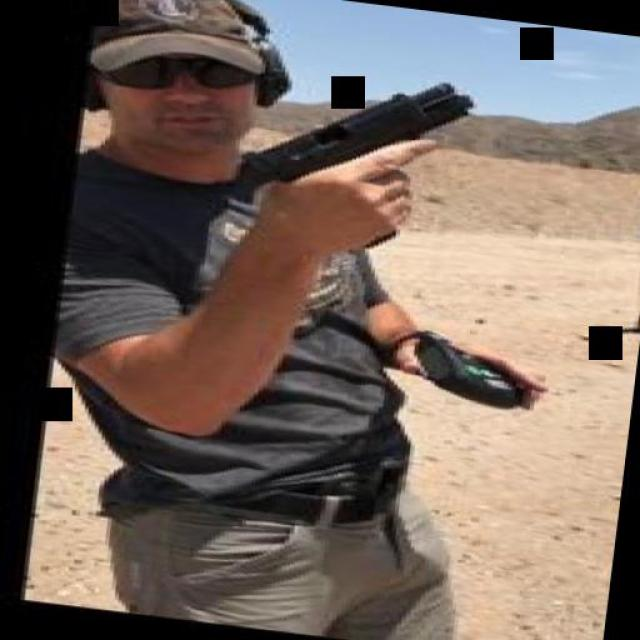gun: (234, 52, 476, 258)
